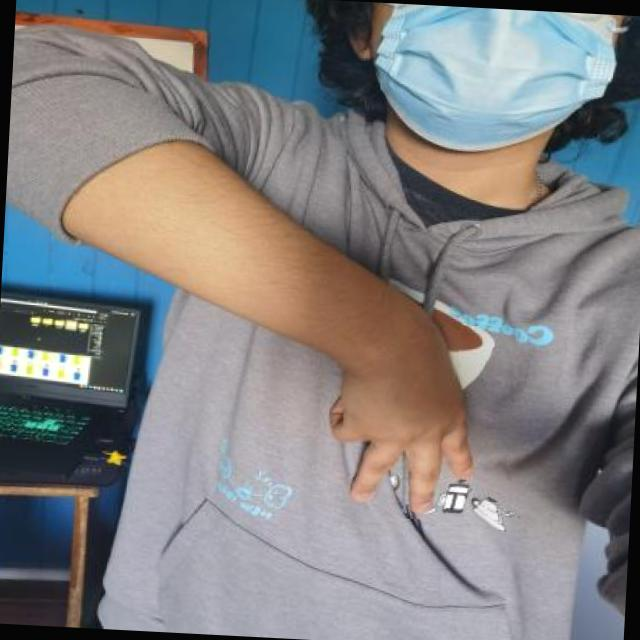M: (281, 316, 517, 526)
